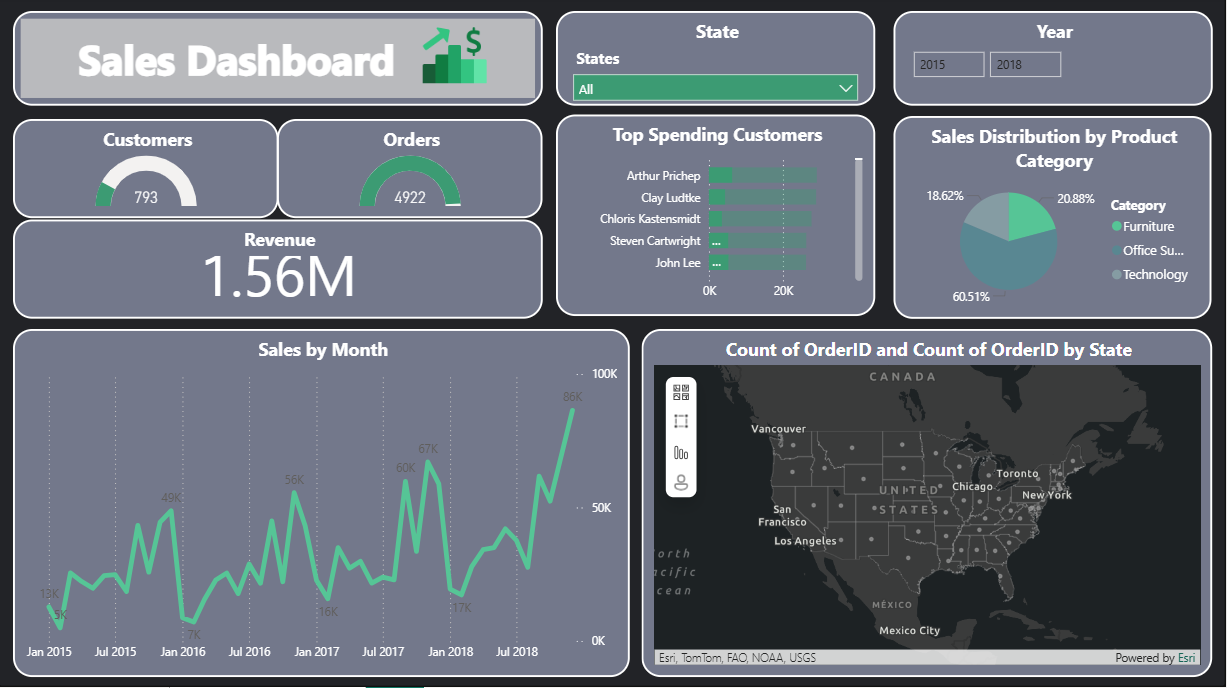

The dashboard page shown, as its layout file describes it:
{"tool":"powerbi","page":{"name":"Sales Dashboard","canvas":[1280,720],"ordinal":0},"visuals":[{"type":"barChart","title":"Top Spending Customers","fields":{"Category":["admin_test customers.CustomerName"],"Y":["admin_test order_details.Total"]},"box":[582.2,124.1,332.4,210],"z":0},{"type":"lineChart","title":"Sales by Month","fields":{"Category":["admin_test orders.OrderDate.Variación.Jerarquía de fechas.Año","admin_test orders.OrderDate.Variación.Jerarquía de fechas.Mes"],"Y2":["admin_test order_details.Total"]},"box":[15.9,346.8,642.6,362.7],"z":1000},{"type":"slicer","title":"Year","fields":{"Values":["admin_test orders.OrderDate.Variación.Jerarquía de fechas.Año"]},"box":[933.7,15.9,332.4,98.6],"z":2000},{"type":"gauge","title":"Customers","fields":{"Y":["admin_test customers.CustomerID"]},"box":[15.9,128.8,276.8,103.4],"z":3000},{"type":"card","title":"Revenue","fields":{"Values":["admin_test order_details.Total"]},"box":[15.6,232.9,551.7,103.2],"z":4000},{"type":"gauge","title":"Orders","fields":{"Y":["admin_test orders.OrderDate"]},"box":[291.1,128.8,276.8,103.4],"z":5000},{"type":"esriVisual","fields":{"Location":["admin_test orders.State"],"Size":["admin_test orders.OrderID"],"Color":["admin_test orders.OrderID"]},"box":[671.2,346.8,594.9,362.7],"z":6000},{"type":"slicer","title":"State","fields":{"Values":["admin_test orders.State"]},"box":[582.2,15.9,332.4,98.6],"z":7000},{"type":"pieChart","title":"Sales Distribution by Product Category","fields":{"Y":["admin_test order_details.Quantity"],"Series":["admin_test products.Category"]},"box":[933.1,125,331.4,211],"z":8000},{"type":"shape","box":[15.9,15.9,551.9,98.6],"z":9000},{"type":"image","box":[429.5,15.9,92.3,90.7],"z":10000}]}

Visuals, with their boxes in screenshot pixels (x1, y1, x2, y2), scaled from the page's 1280x720 canvas onto the 1227x688 screenshot:
"Top Spending Customers" barChart: [558,119,877,319]
"Sales by Month" lineChart: [15,331,631,678]
"Year" slicer: [895,15,1214,109]
"Customers" gauge: [15,123,281,222]
"Revenue" card: [15,223,544,321]
"Orders" gauge: [279,123,544,222]
esriVisual - admin_test orders.State x admin_test orders.OrderID: [643,331,1214,678]
"State" slicer: [558,15,877,109]
"Sales Distribution by Product Category" pieChart: [894,119,1212,321]
shape: [15,15,544,109]
image: [412,15,500,102]
